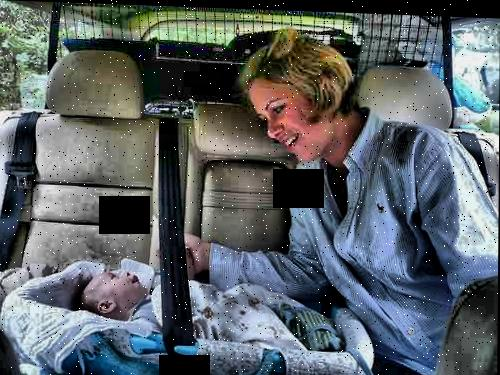seatbelt: (126, 101, 209, 358), (0, 101, 54, 257)
